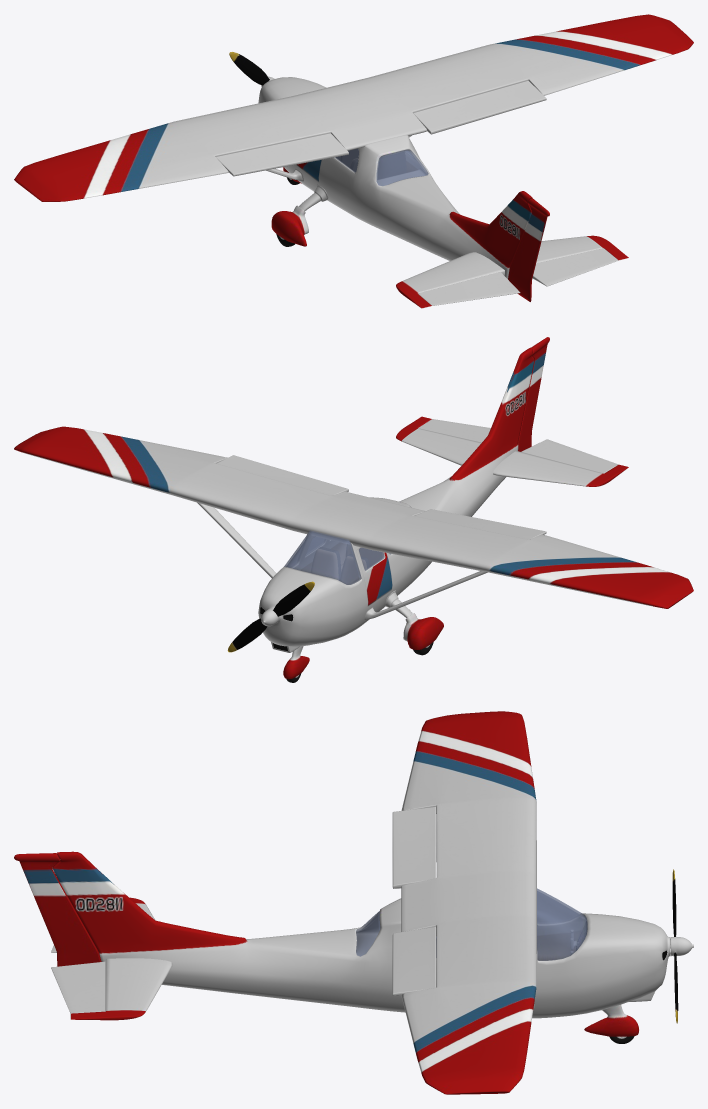
3 views of the same model, one above another, from view 1: azimuth 30°, elevation 25°; view 2: azimuth 150°, elevation 25°; view 3: azimuth 270°, elevation 25° (orthographic). The views are drawn at different scales.
Visible parts, largest first — view 1: 11804_Airplane_v2_l2; view 2: 11804_Airplane_v2_l2; view 3: 11804_Airplane_v2_l2.
Part boxes in pixels (<box>): 11804_Airplane_v2_l2: <box>14,14,693,308</box>; 11804_Airplane_v2_l2: <box>14,337,693,682</box>; 11804_Airplane_v2_l2: <box>14,711,693,1094</box>.
Bounding box in the file's own units: 1094 × 256 × 827.
2 materials, 2 textured.
